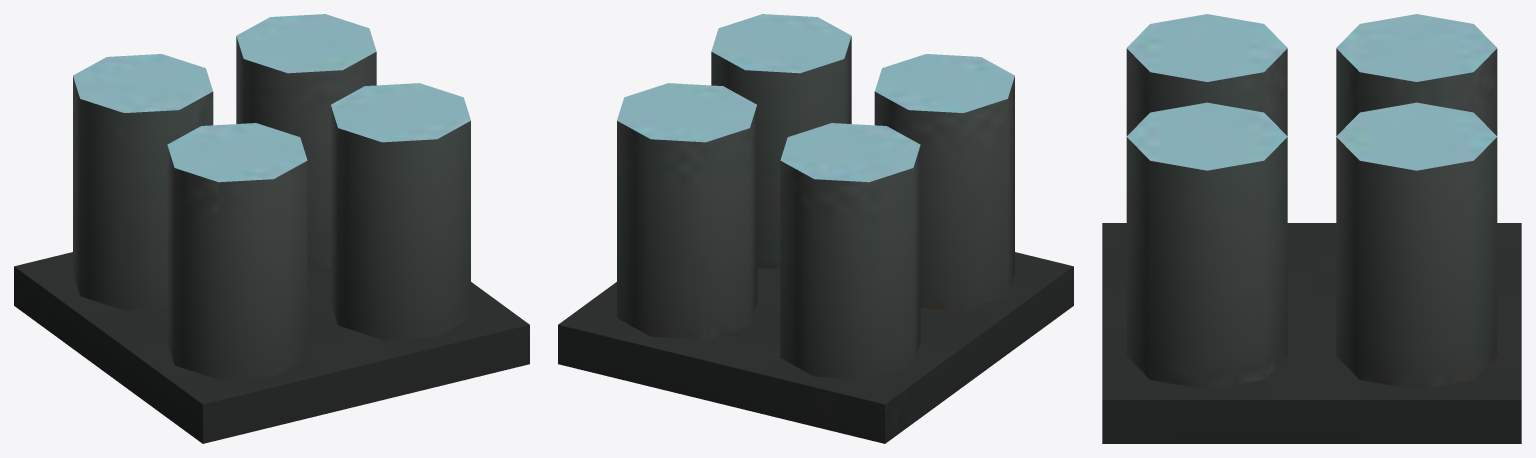
The model's file is accumulator.glb.
The picture shows the model from 3 angles, left to right: view 1: azimuth 30°, elevation 25°; view 2: azimuth 150°, elevation 25°; view 3: azimuth 270°, elevation 25°; orthographic projection. The views are drawn at different scales.
Parts seen in each view (by area): view 1: accumulator; view 2: accumulator; view 3: accumulator.
Part boxes in pixels (x1=…): accumulator: x1=14, y1=14, x2=529, y2=443; accumulator: x1=558, y1=14, x2=1073, y2=443; accumulator: x1=1102, y1=14, x2=1521, y2=443.
Size of the model in its own units: 0.26 by 0.18 by 0.26.
Materials: 1 (1 with a texture image).
